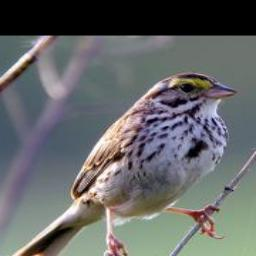Sparrow: (7, 71, 239, 256)
